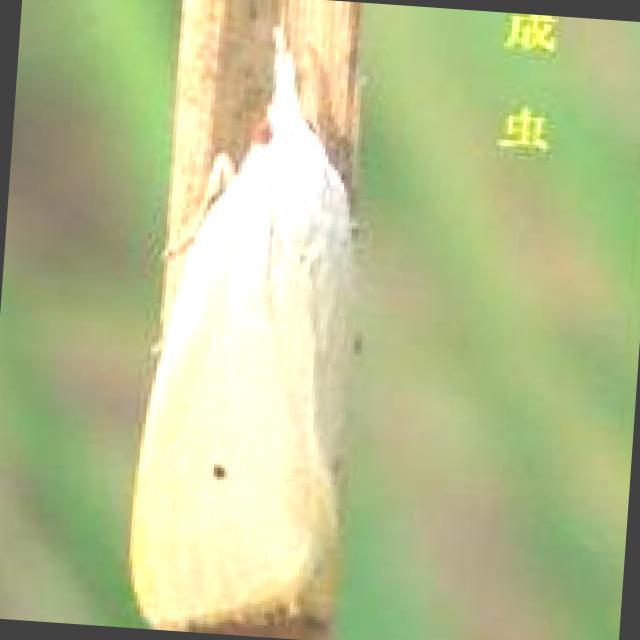stem borer: (130, 29, 353, 635)
